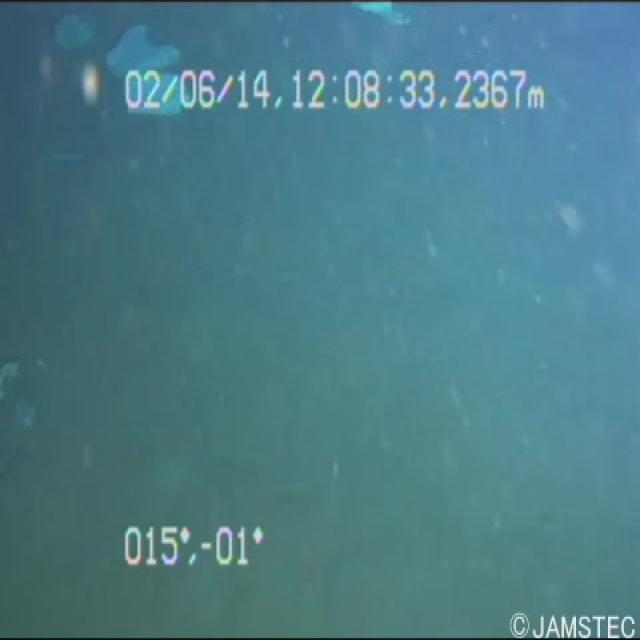plastic: (87, 14, 197, 130)
